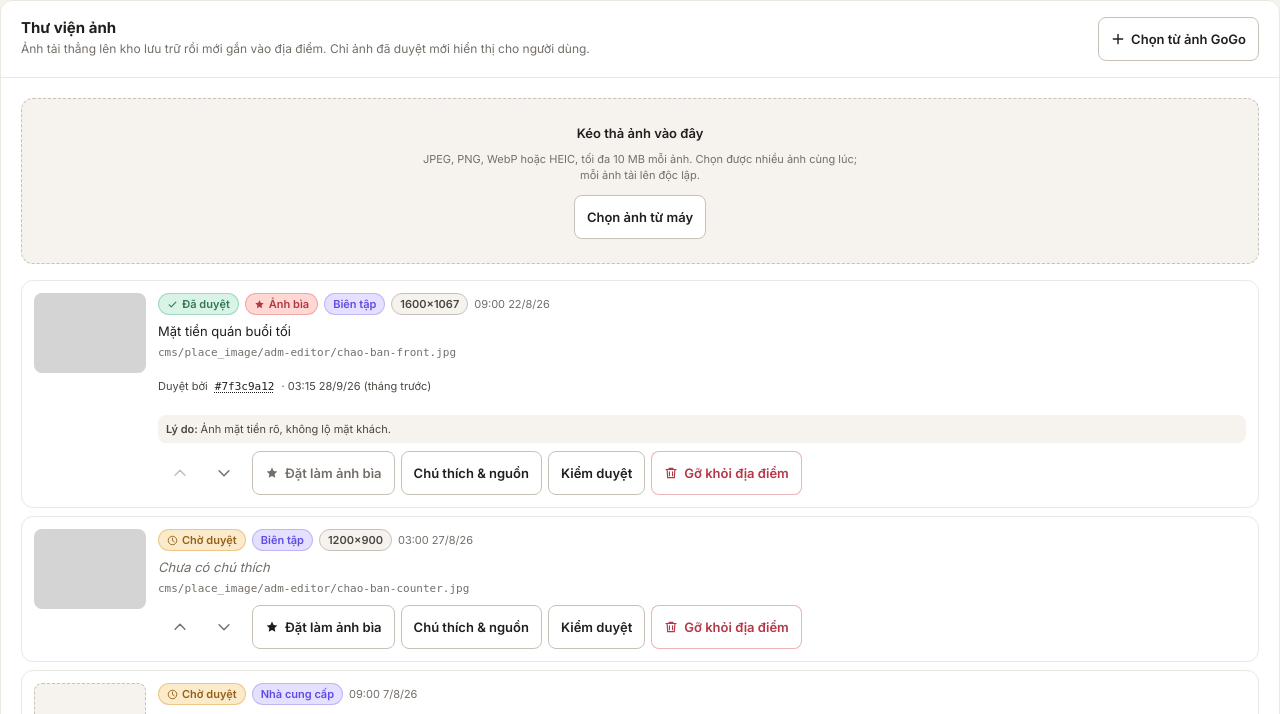
place media — editorial decisions (CMS-046) › puts the server’s reason rejection under the reason box, not only in a toast
Click the button "Kiểm duyệt" below "1200" at (597, 627), box [548,605,645,649]
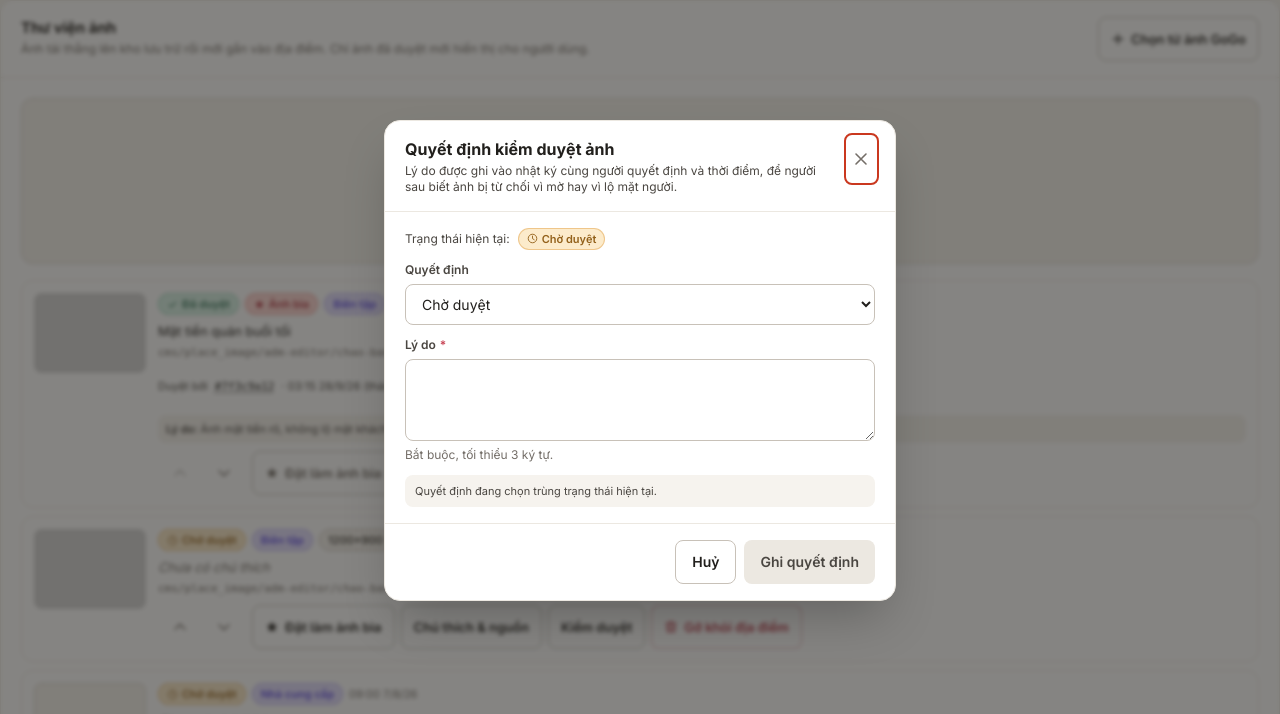
Select "Đã duyệt" in the dropdown labelled "Quyết định" at (640, 304), box [405,284,875,324]
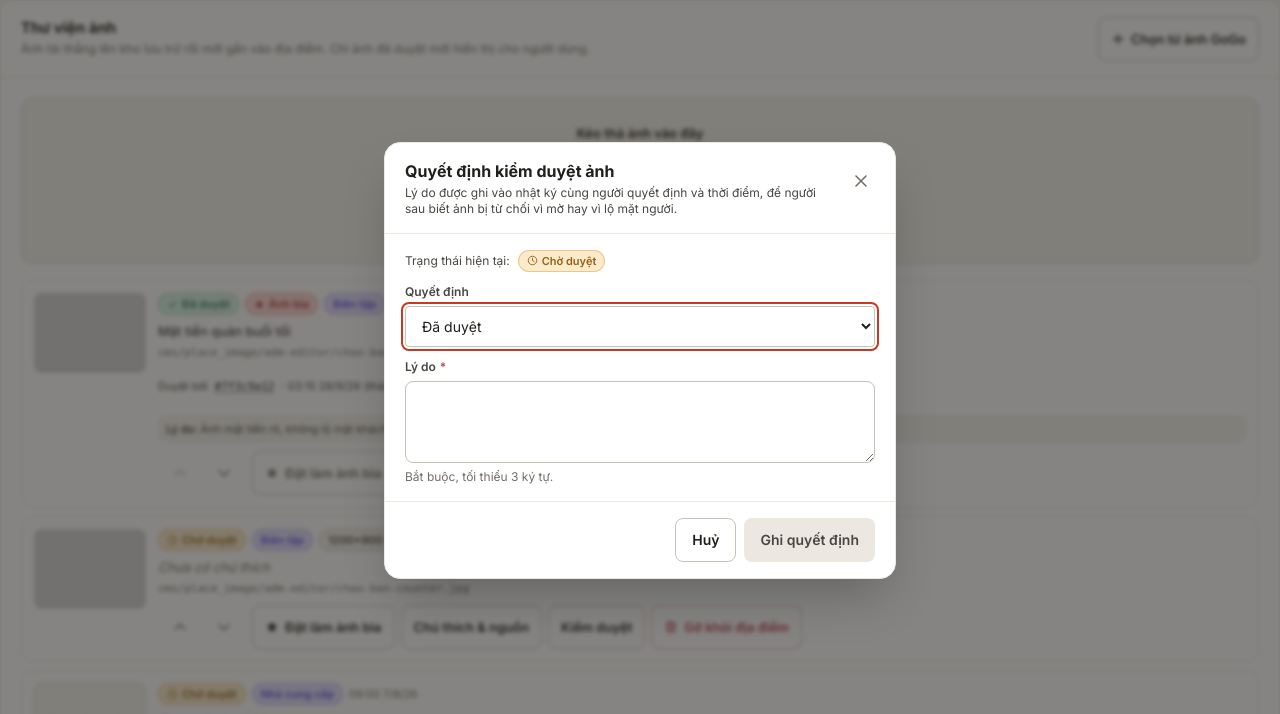
Type "Đã kiểm tra" into the text box labelled "Lý do*" at (640, 422), box [405,380,875,462]
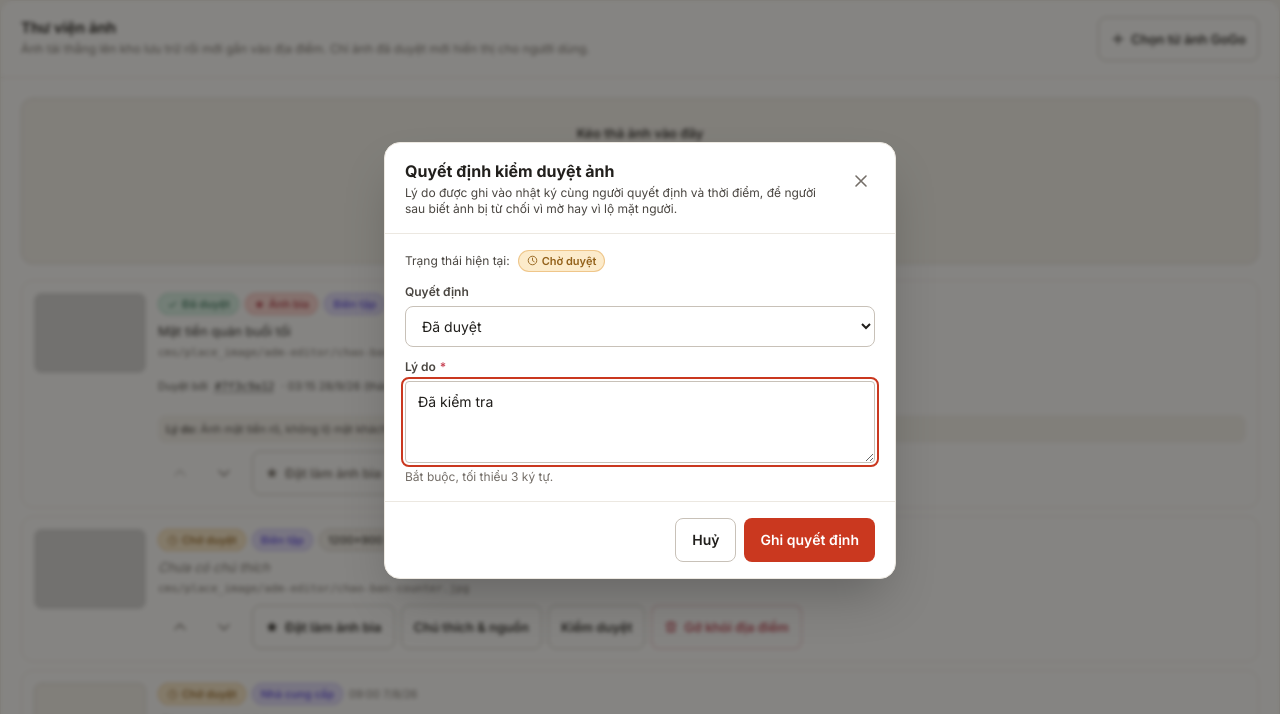
Click the button "Ghi quyết định" at (810, 540), box [744,518,875,562]
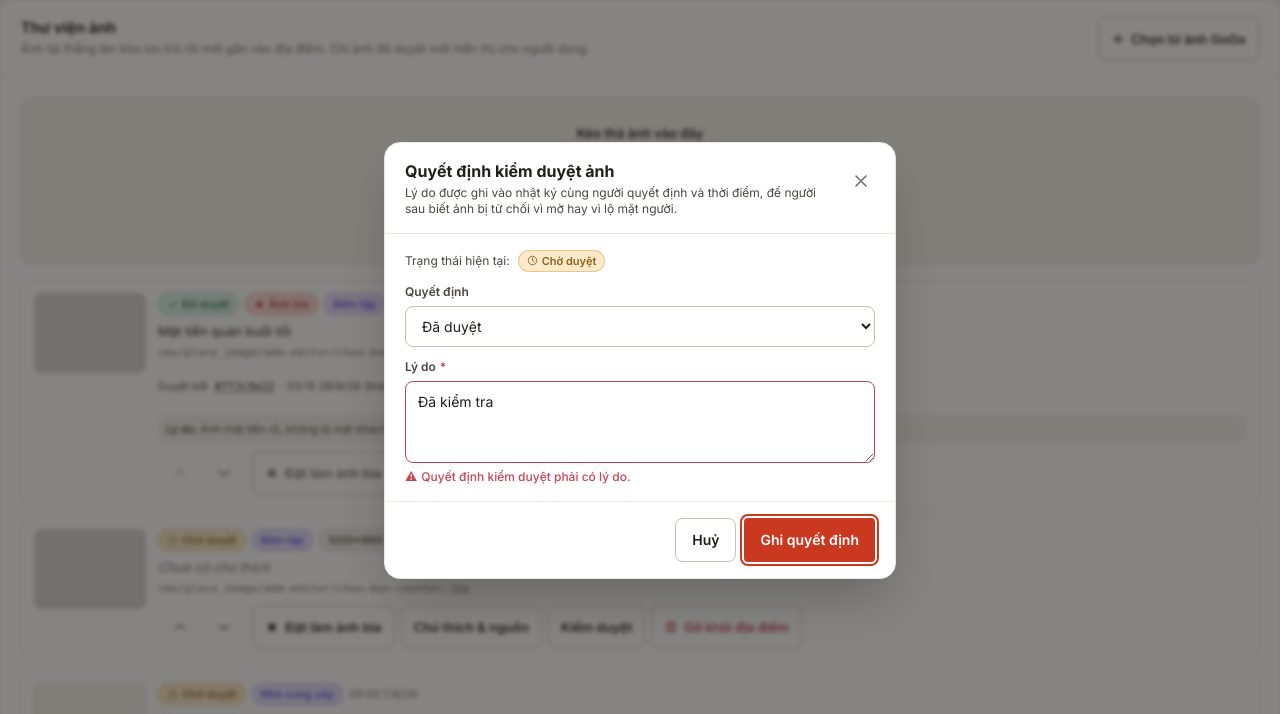
Result: the text "Quyết định kiểm duyệt phải có lý do." is shown at [421,468,630,484]
